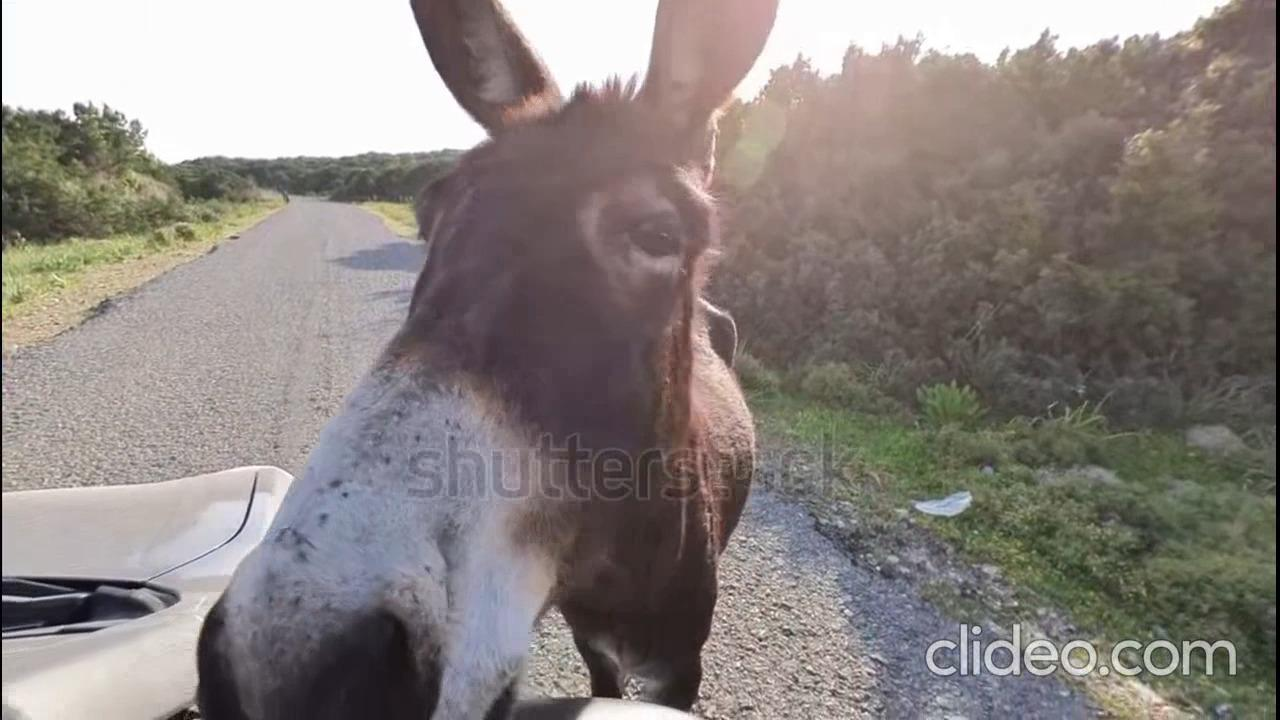Donkey: (204, 2, 770, 720)
